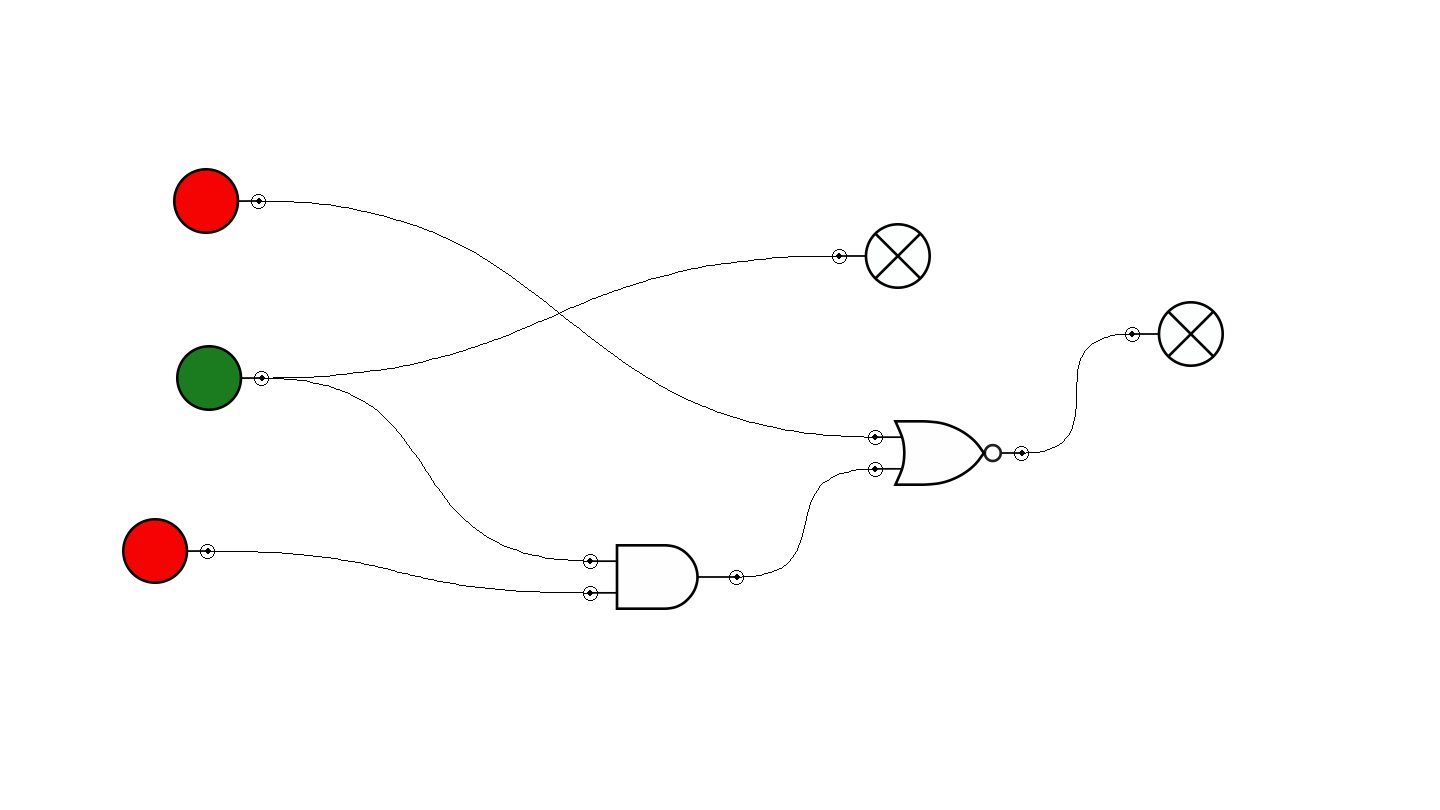and: (583, 544, 744, 610)
bulb: (832, 223, 931, 289), (1125, 301, 1224, 367)
nor: (868, 420, 1029, 486)
switch_False: (173, 168, 266, 234), (122, 518, 215, 584)
switch_True: (176, 345, 269, 411)
